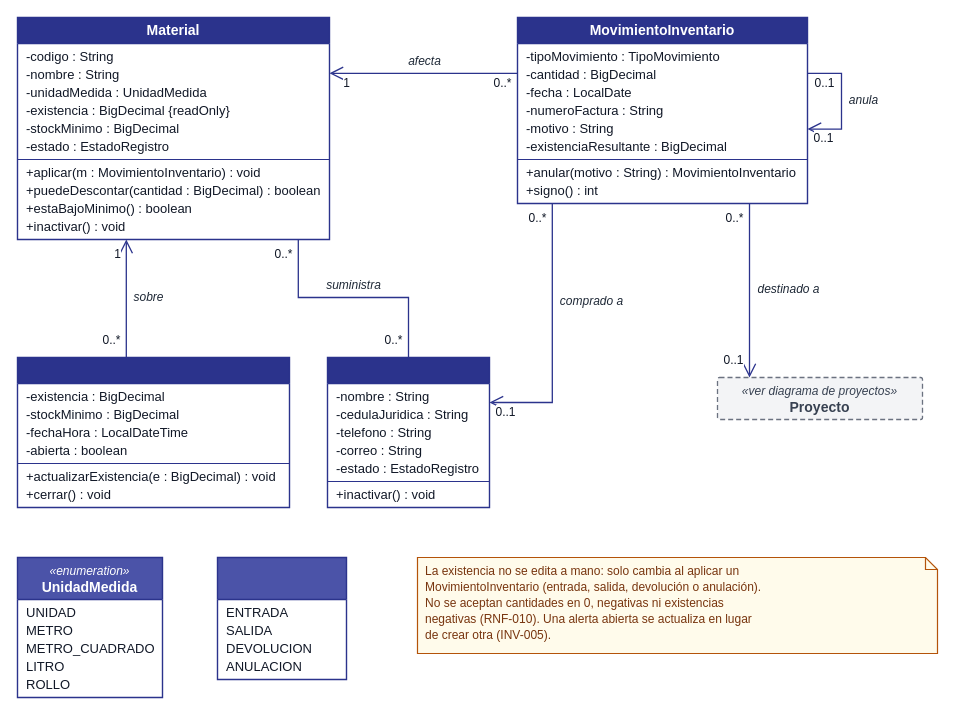
This 956x720 diagram has some shape labels left out. The box of each missing label's shape, as (x1, y1, x2, y2) in pixels:
AlertaInventario: (16, 356, 290, 508)
Proveedor: (326, 356, 490, 508)
«enumeration» TipoMovimiento: (216, 556, 347, 680)
